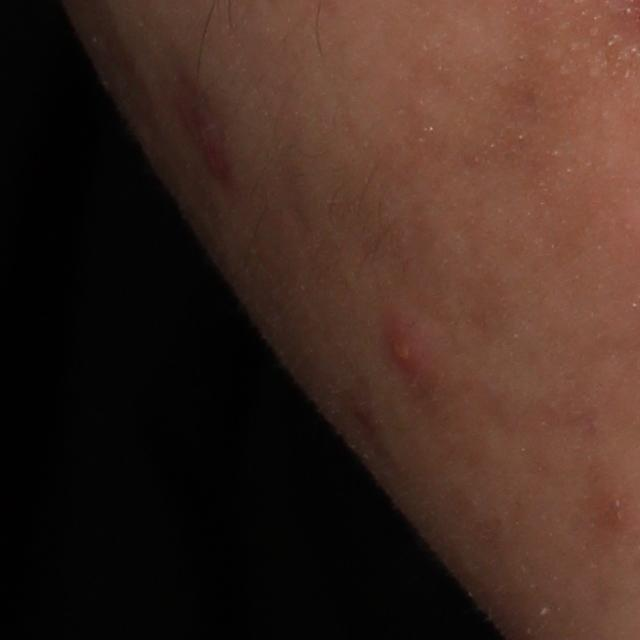papule: (188, 112, 233, 187)
